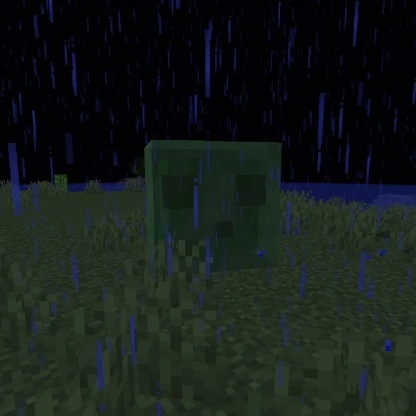slime: (139, 134, 289, 275)
